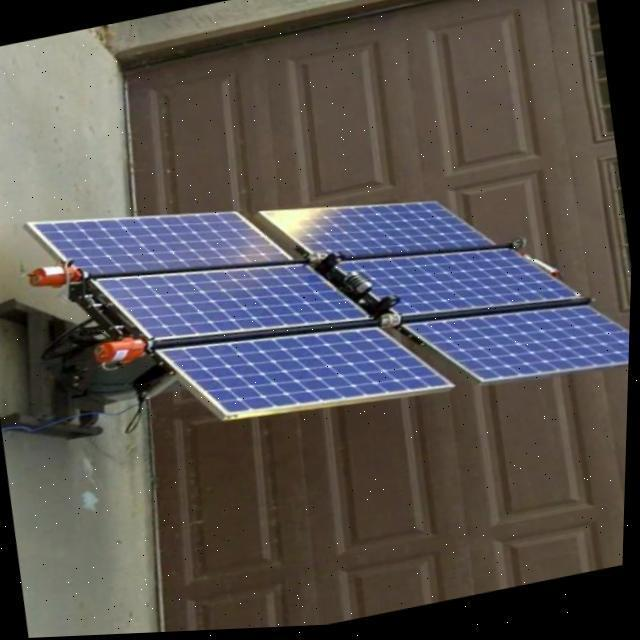Normal Solar Panel: (158, 298, 458, 446), (94, 230, 372, 372), (23, 176, 294, 310), (339, 222, 582, 346), (404, 286, 633, 412), (259, 172, 497, 292)
